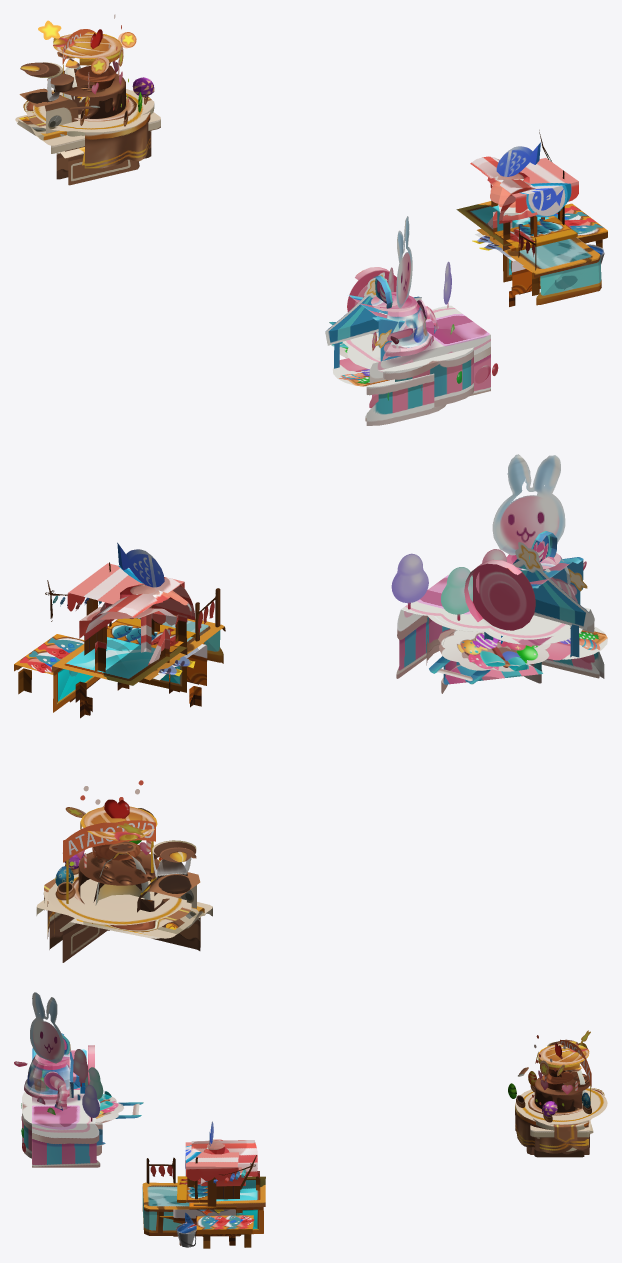
The model's file is tanwei3.fbx.
3 views of the same model, one above another, from view 1: azimuth 30°, elevation 25°; view 2: azimuth 150°, elevation 25°; view 3: azimuth 270°, elevation 25° (orthographic). The views are drawn at different scales.
Parts seen in each view (by area): view 1: stall_20094, stall_20084, stall_20044, stall_20082, stall_20083, stall_20092, stall_20043, stall_20042, stall_20041, stall_20091, stall_20093, stall_20081; view 2: stall_20084, stall_20043, stall_20081, stall_20094, stall_20092, stall_20044, stall_20082, stall_20042, stall_20093, stall_20083, stall_20091, stall_20041; view 3: stall_20084, stall_20094, stall_20043, stall_20044, stall_20041, stall_20093, stall_20081, stall_20042, stall_20083, stall_20092.
Part boxes in pixels (<box>): stall_20094: <box>33,14,154,168</box>; stall_20084: <box>342,216,498,421</box>; stall_20044: <box>477,184,604,305</box>; stall_20082: <box>325,272,446,425</box>; stall_20083: <box>347,275,473,407</box>; stall_20092: <box>15,62,160,179</box>; stall_20043: <box>456,130,607,295</box>; stall_20042: <box>472,142,584,306</box>; stall_20041: <box>481,158,578,271</box>; stall_20091: <box>57,52,139,185</box>; stall_20093: <box>23,29,154,136</box>; stall_20081: <box>329,267,396,358</box>; stall_20084: <box>391,454,599,678</box>; stall_20043: <box>14,562,204,712</box>; stall_20081: <box>429,559,550,693</box>; stall_20094: <box>47,780,186,938</box>; stall_20092: <box>36,840,212,950</box>; stall_20044: <box>69,588,225,702</box>; stall_20082: <box>484,542,607,678</box>; stall_20042: <box>80,542,207,718</box>; stall_20093: <box>43,799,191,936</box>; stall_20083: <box>426,531,587,665</box>; stall_20091: <box>59,841,205,962</box>; stall_20041: <box>67,563,184,702</box>; stall_20084: <box>14,992,103,1167</box>; stall_20094: <box>508,1030,607,1153</box>; stall_20043: <box>159,1140,265,1248</box>; stall_20044: <box>142,1157,245,1247</box>; stall_20041: <box>185,1142,238,1215</box>; stall_20093: <box>532,1039,604,1151</box>; stall_20081: <box>88,1045,143,1155</box>; stall_20042: <box>173,1121,235,1245</box>; stall_20083: <box>22,1033,86,1158</box>; stall_20092: <box>518,1039,590,1157</box>.
Bounding box in the file's own units: 8.1 × 4.16 × 14.59.
